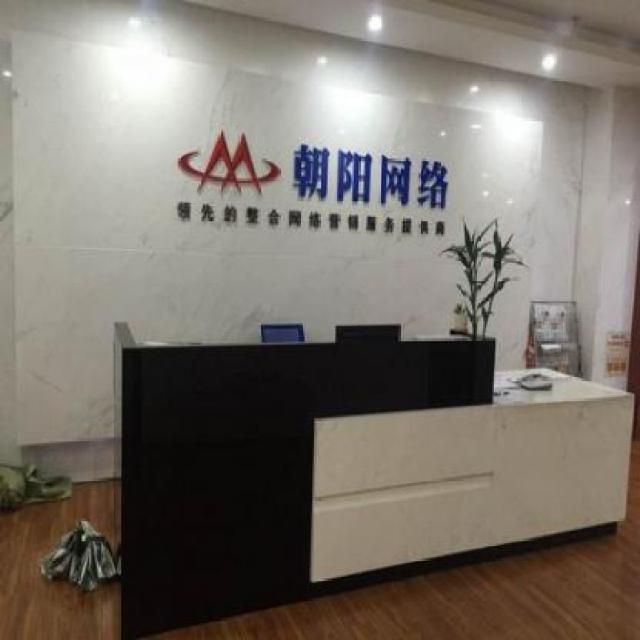frontdesk: (95, 309, 640, 640)
